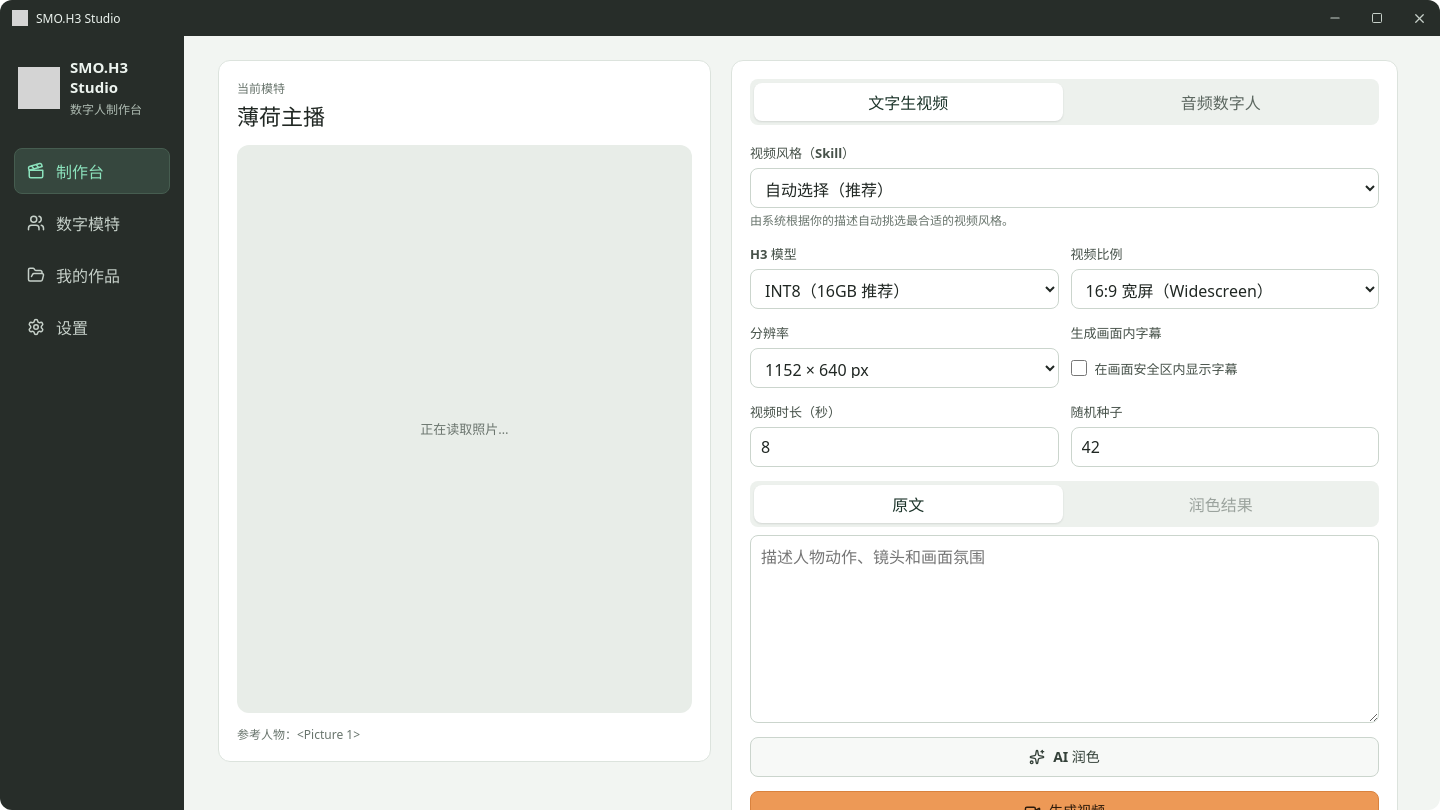
it: SMO.H3 Studio navigation and avatars › shows the real deletion error and keeps the confirmation dialog open
This screenshot has width=1440, height=810.
Expected: the heading "薄荷主播" is shown, [237,101,325,131]
Click the button "数字模特" at (92,223), box [14,200,170,246]
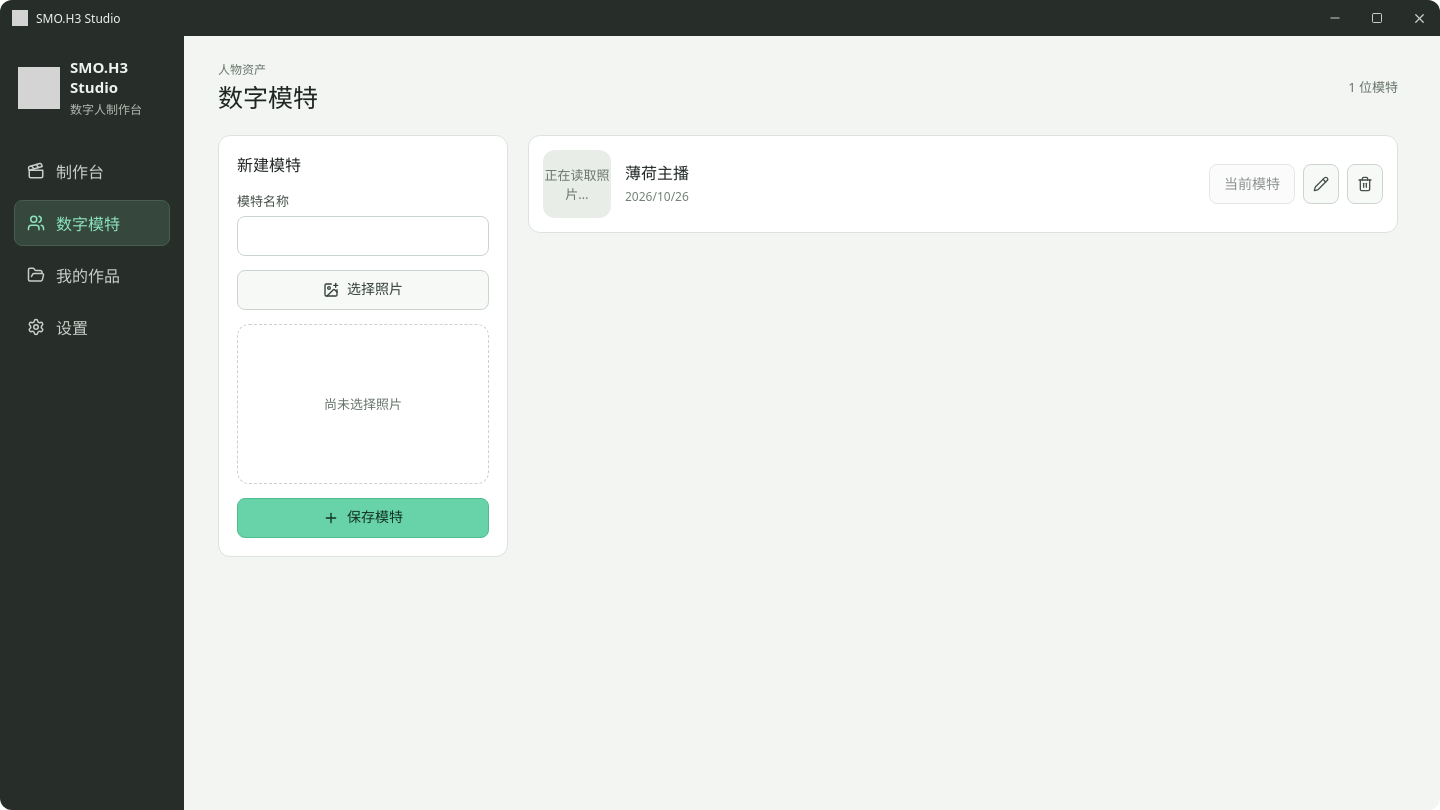
Click the button named "删除 薄荷主播" at (1365,184), box [1347,164,1383,204]
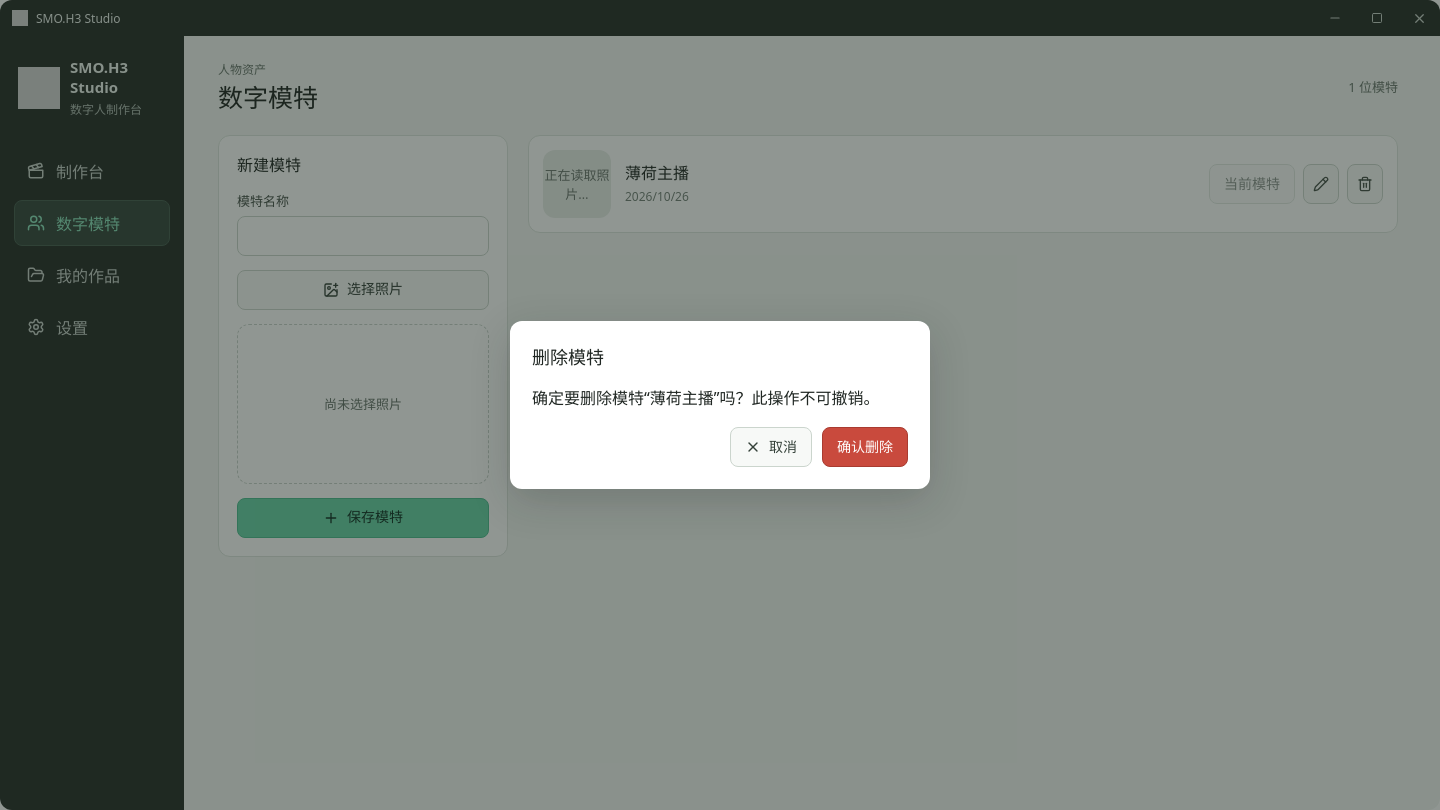
Click the button "确认删除" at (865,447), box [822,427,908,467]
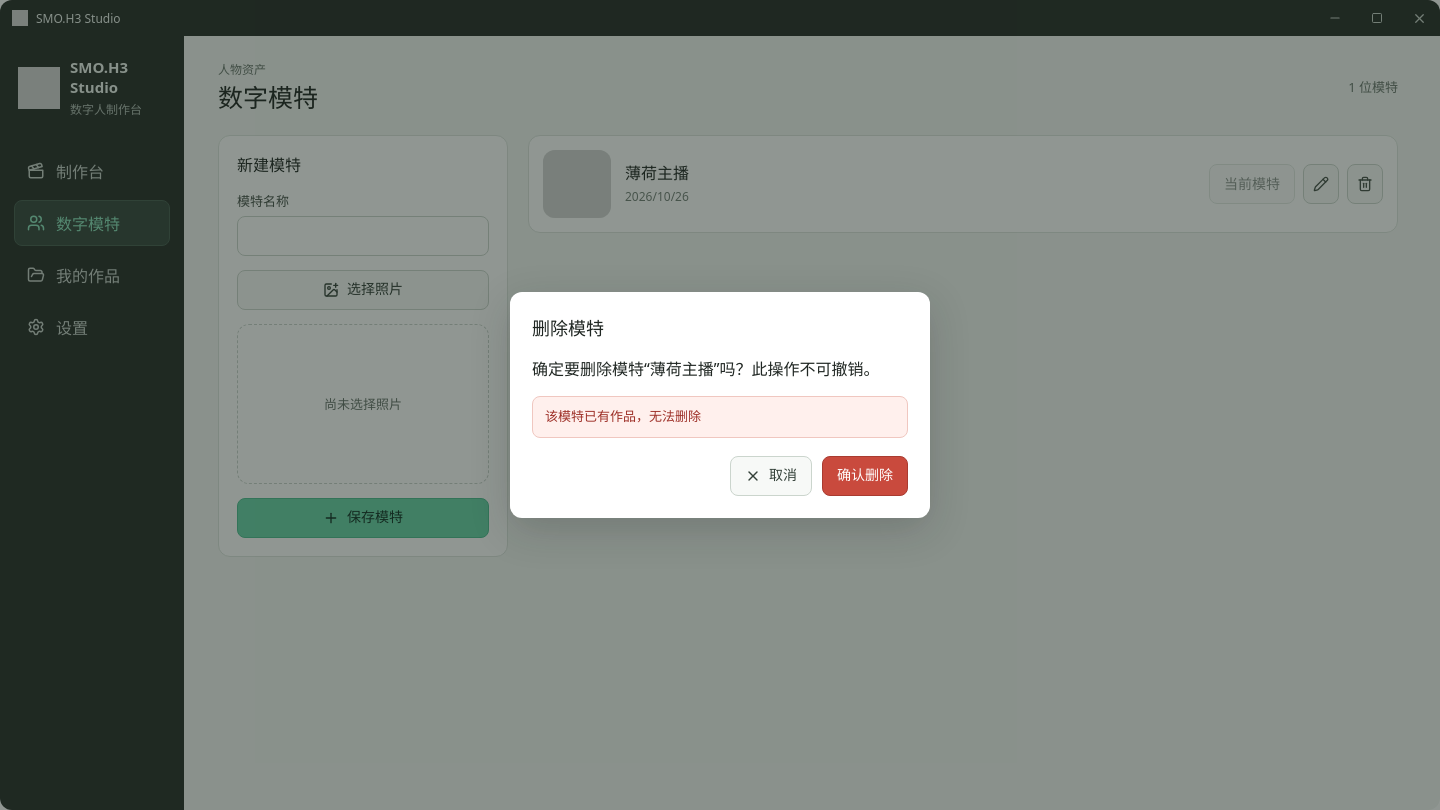
Now the dialog "删除模特" is shown
Now the message reads "该模特已有作品，无法删除", box [545,407,701,425]
